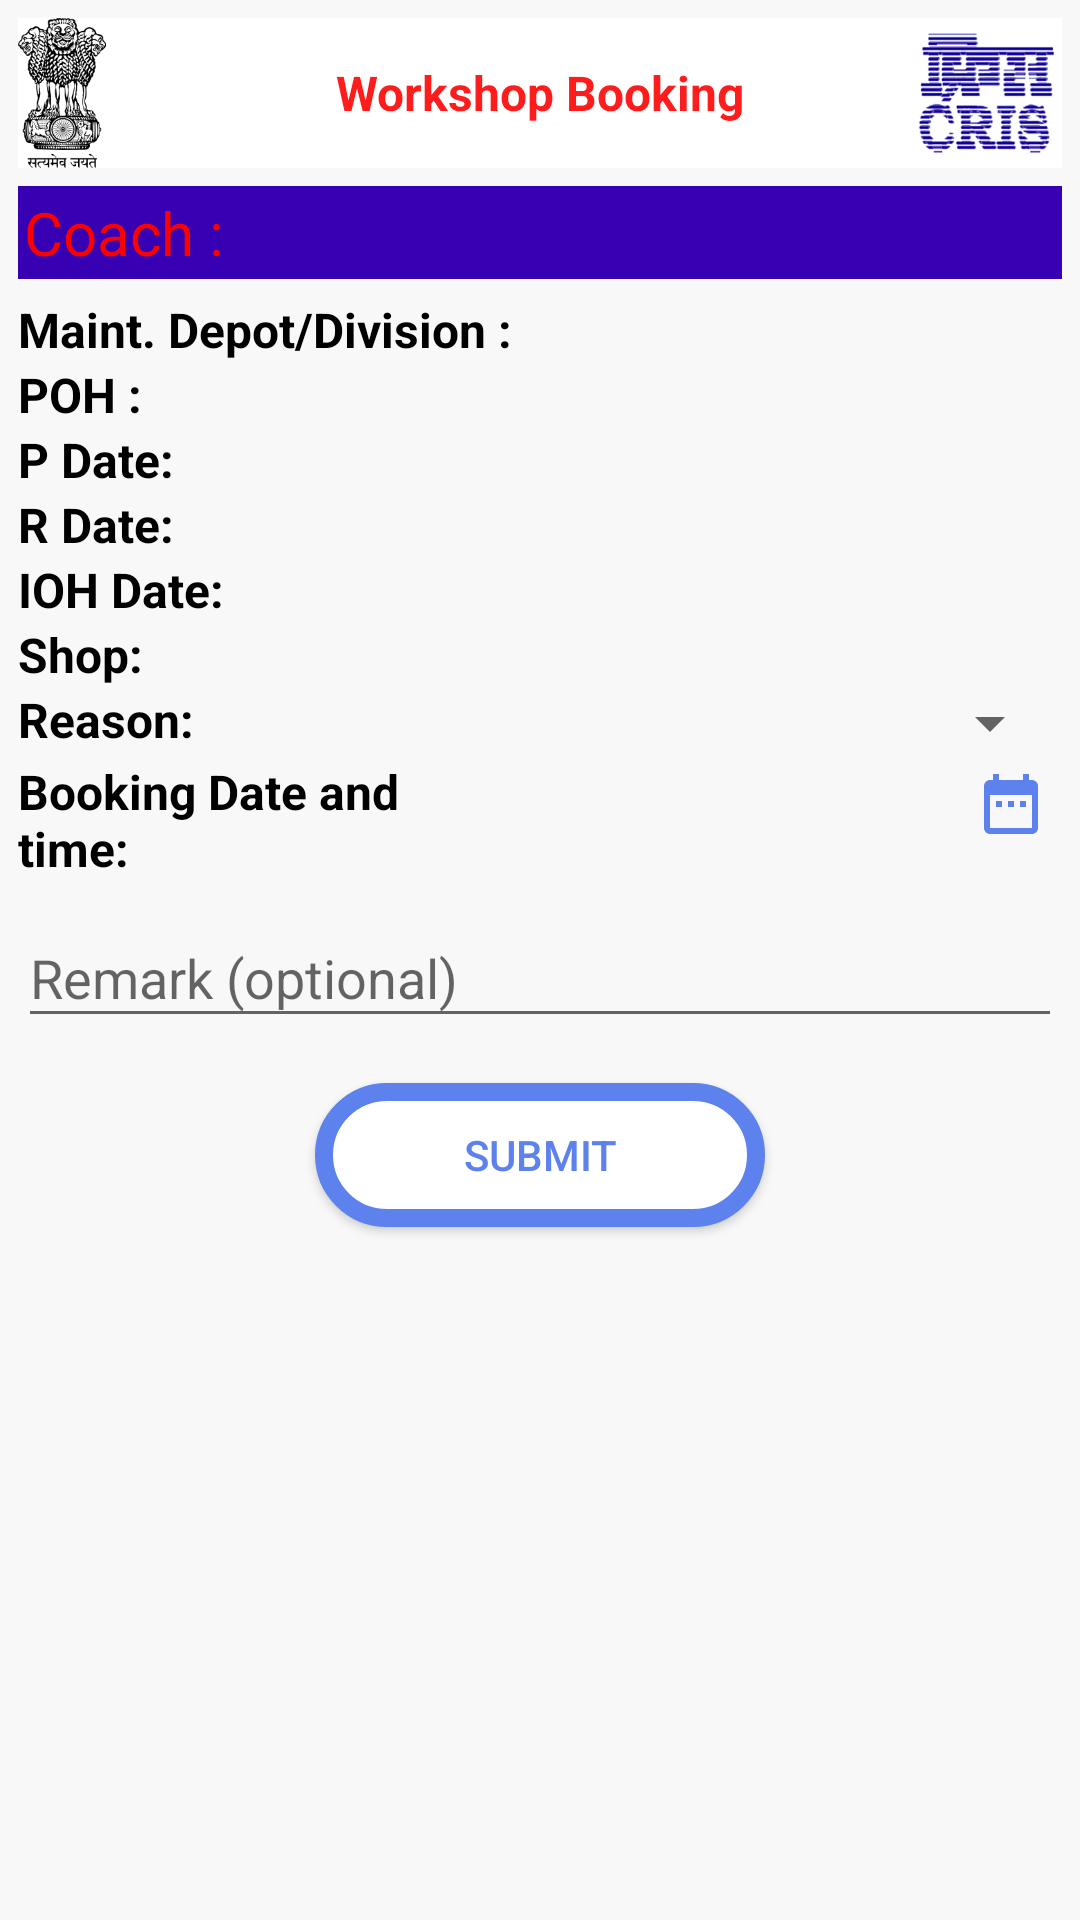

Screen size 1080 × 1920. Icon name, then its center in pixels as [x,y]:
Calender: [1011,804]
